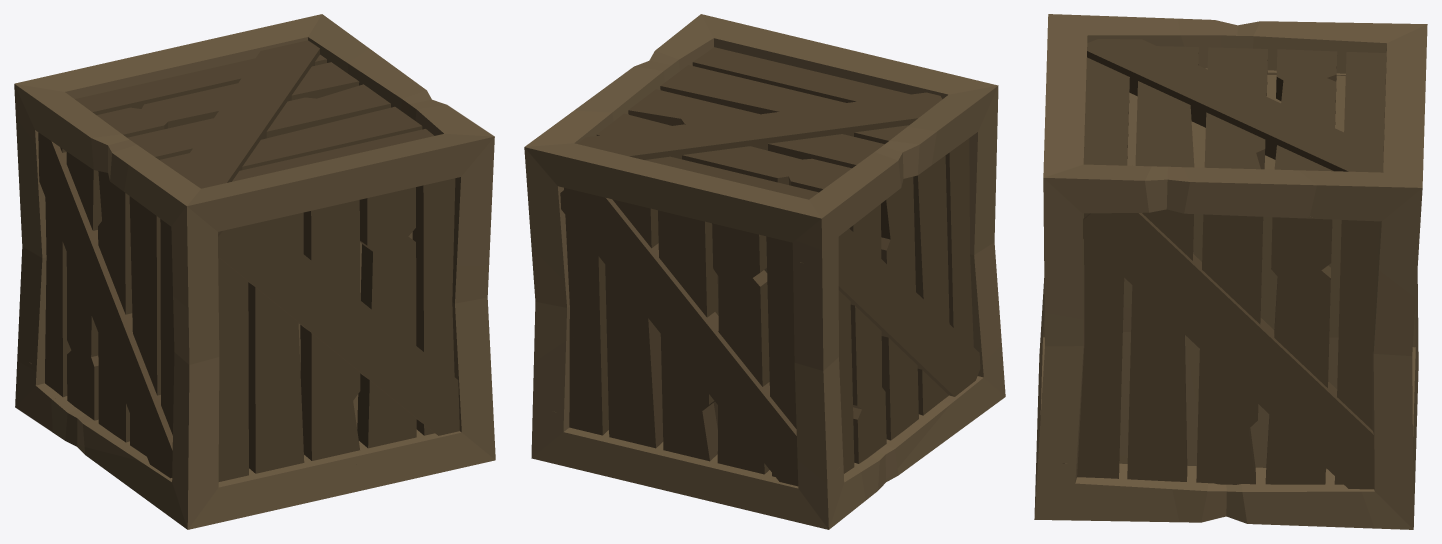
3 renders of one model, left to right at view 1: azimuth 30°, elevation 25°; view 2: azimuth 150°, elevation 25°; view 3: azimuth 270°, elevation 25°, orthographic. The views are drawn at different scales.
Parts seen in each view (by area): view 1: Crate.001_shard.011, Crate.001_shard.006, Crate.001_shard.005, Crate.001_shard.008, Crate.001_shard.010, Crate.001_shard.014, Crate.001_shard.009, Crate.001_shard.013, Crate.001_shard.001, Crate.001_shard.003, Crate.001_shard, Crate.001_shard.004; view 2: Crate.001_shard.009, Crate.001_shard.013, Crate.001_shard.002, Crate.001_shard.006, Crate.001_shard.008, Crate.001_shard.011, Crate.001_shard.004, Crate.001_shard.010, Crate.001_shard.001, Crate.001_shard.007, Crate.001_shard.014; view 3: Crate.001_shard.007, Crate.001_shard.010, Crate.001_shard.008, Crate.001_shard.012, Crate.001_shard.005, Crate.001_shard.011, Crate.001_shard.013, Crate.001_shard.001, Crate.001_shard.003, Crate.001_shard.002, Crate.001_shard.004, Crate.001_shard.014.
Boxes of the visible parts, x1,y1,x2,y2 form: Crate.001_shard.011: (123,134,413,334); Crate.001_shard.006: (51,255,345,474); Crate.001_shard.005: (337,265,494,468); Crate.001_shard.008: (14,62,246,250); Crate.001_shard.010: (343,49,494,265); Crate.001_shard.014: (68,410,358,529); Crate.001_shard.009: (16,118,117,377); Crate.001_shard.013: (111,14,369,87); Crate.001_shard.001: (236,73,344,141); Crate.001_shard.003: (358,430,495,490); Crate.001_shard: (117,131,423,345); Crate.001_shard.004: (15,361,67,432); Crate.001_shard.009: (642,221,906,483); Crate.001_shard.013: (524,110,740,326); Crate.001_shard.002: (531,316,720,497); Crate.001_shard.006: (853,187,1001,499); Crate.001_shard.008: (687,113,936,250); Crate.001_shard.011: (742,33,998,235); Crate.001_shard.004: (696,397,865,529); Crate.001_shard.010: (574,14,781,121); Crate.001_shard.001: (622,90,809,161); Crate.001_shard.007: (531,249,606,361); Crate.001_shard.014: (880,345,1005,487); Crate.001_shard.007: (1155,216,1415,447); Crate.001_shard.010: (1043,133,1316,332); Crate.001_shard.008: (1178,18,1427,132); Crate.001_shard.012: (1166,374,1374,528); Crate.001_shard.005: (1036,307,1187,487); Crate.001_shard.011: (1044,14,1190,165); Crate.001_shard.013: (1299,75,1425,297); Crate.001_shard.001: (1164,91,1331,170); Crate.001_shard.003: (1034,425,1179,522); Crate.001_shard.002: (1345,399,1416,529); Crate.001_shard.004: (1412,317,1418,437); Crate.001_shard.014: (1036,300,1044,444).
Bounding box in the file's own units: 83.37 × 84.22 × 84.43.
